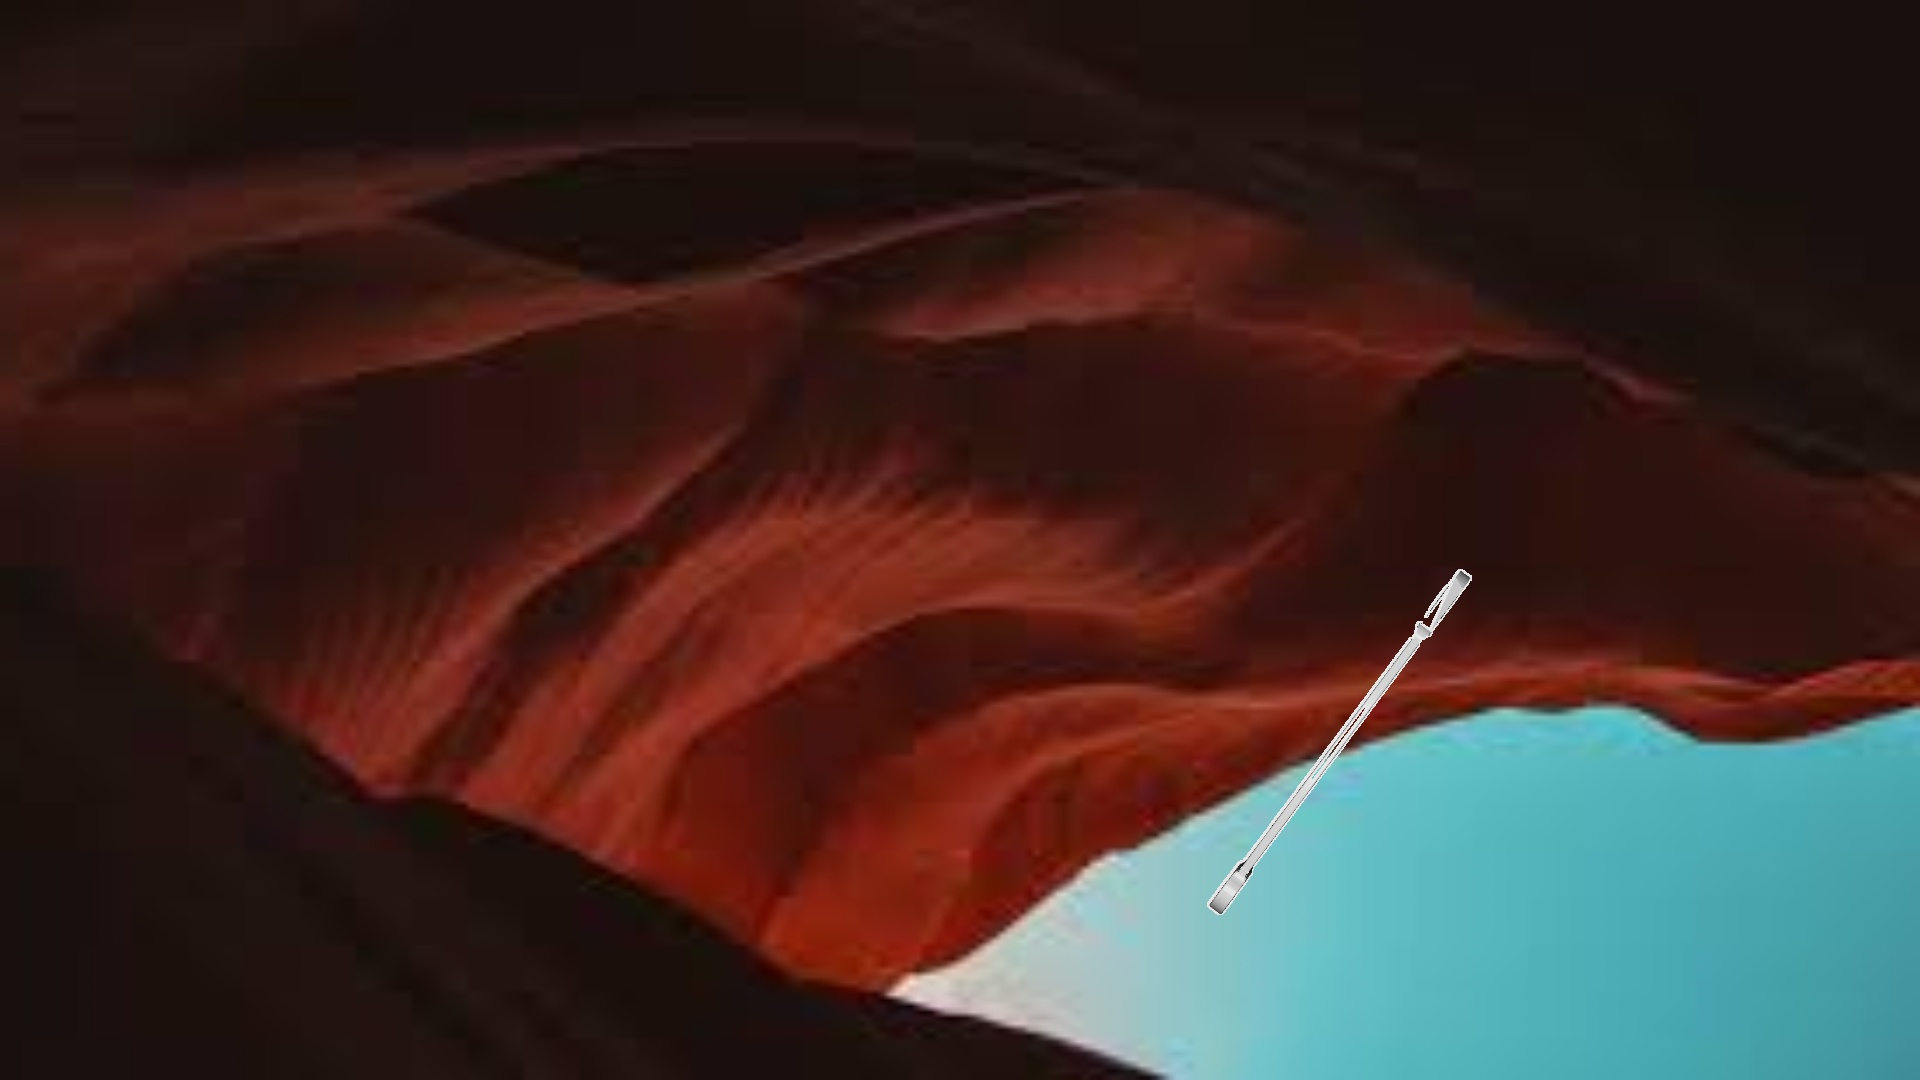Mixed Key: (1207, 568, 1472, 914)
